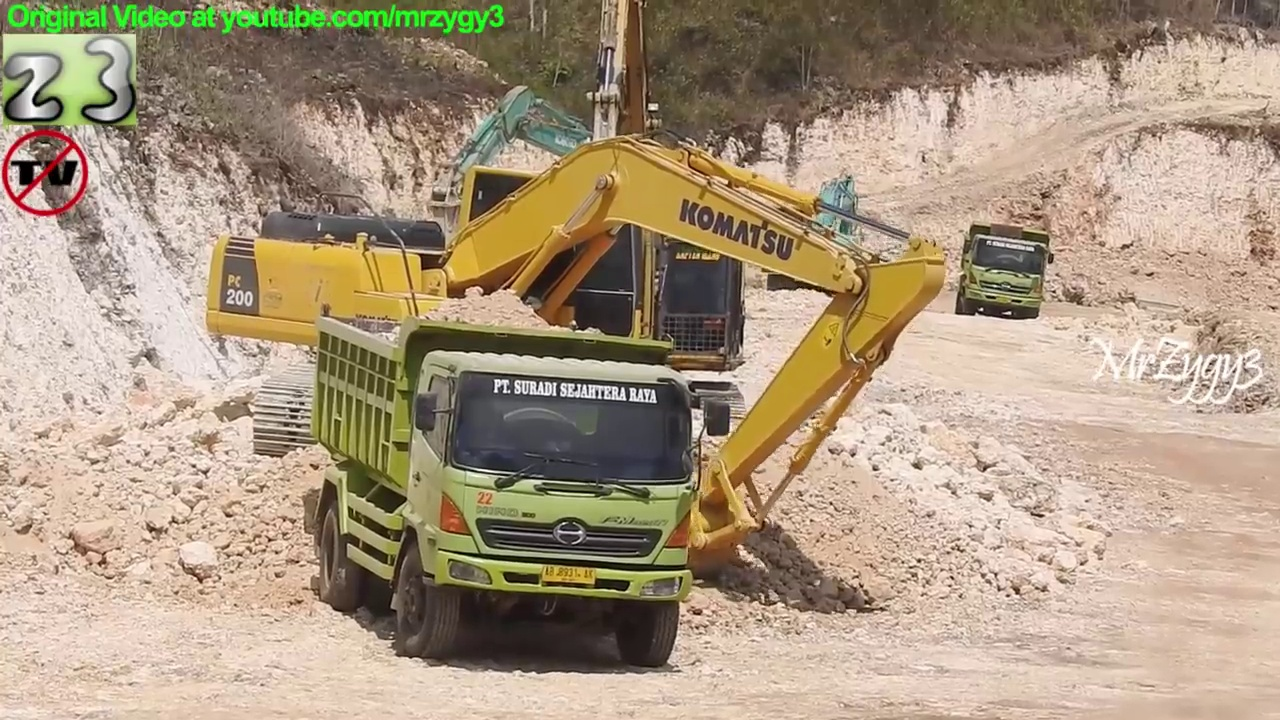excavator: (203, 133, 948, 586), (381, 1, 771, 474), (764, 167, 889, 298)
truck: (309, 307, 738, 674), (953, 217, 1058, 327)
